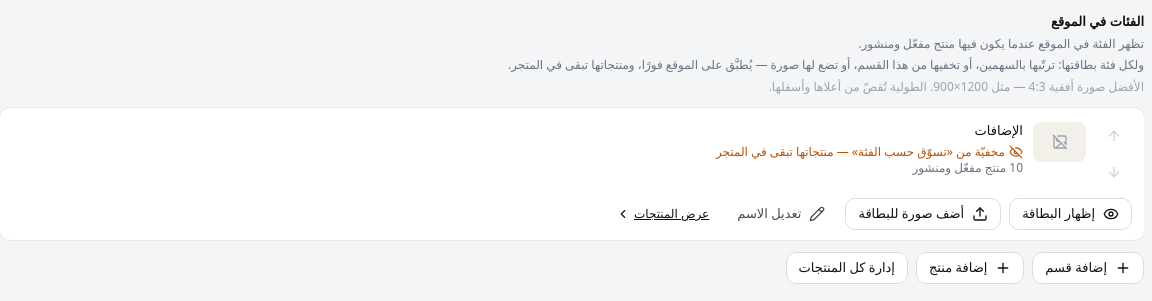
Test: بطاقةُ القسم في «تسوّق حسب الفئة» › والمخفيّةُ تُظهَر بالزرّ نفسه
The width and height of the screenshot is (1152, 301).
Click the button "إظهار البطاقة" at (1071, 214), box [1009,198,1132,230]
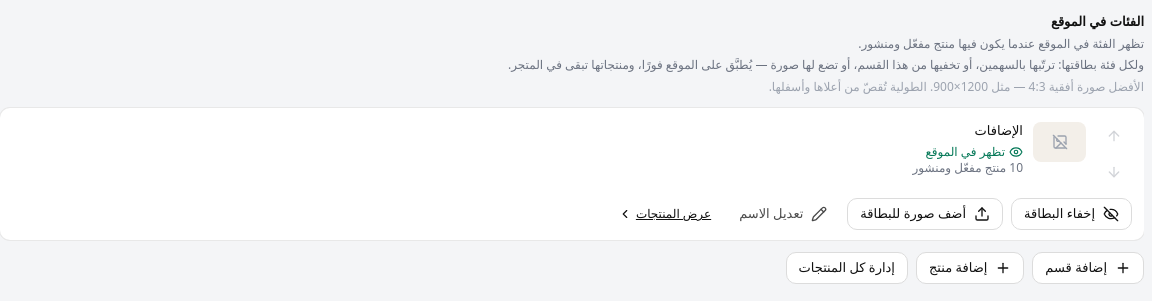
Now the text "تظهر في الموقع" is shown, box [925,144,1005,160]
